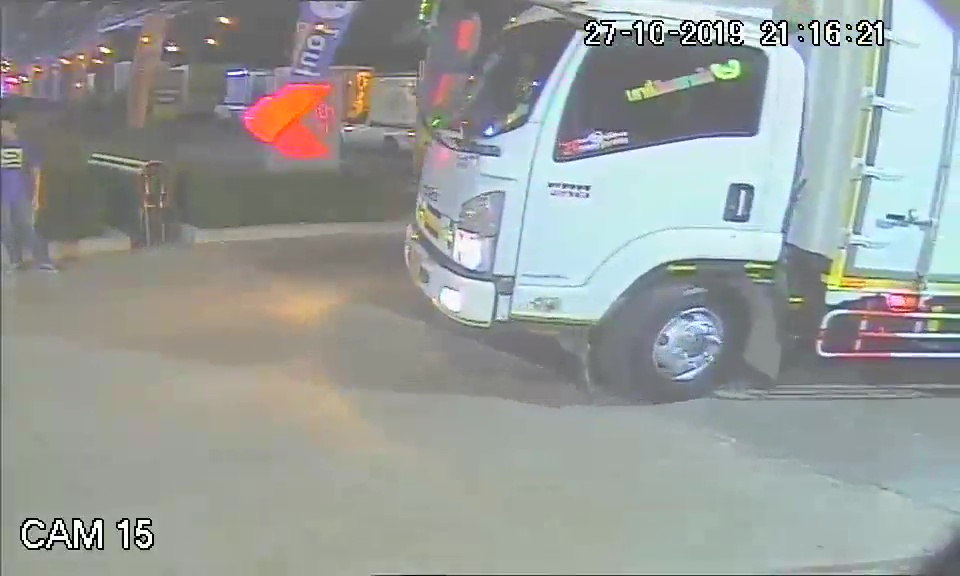truck: (407, 6, 814, 401)
